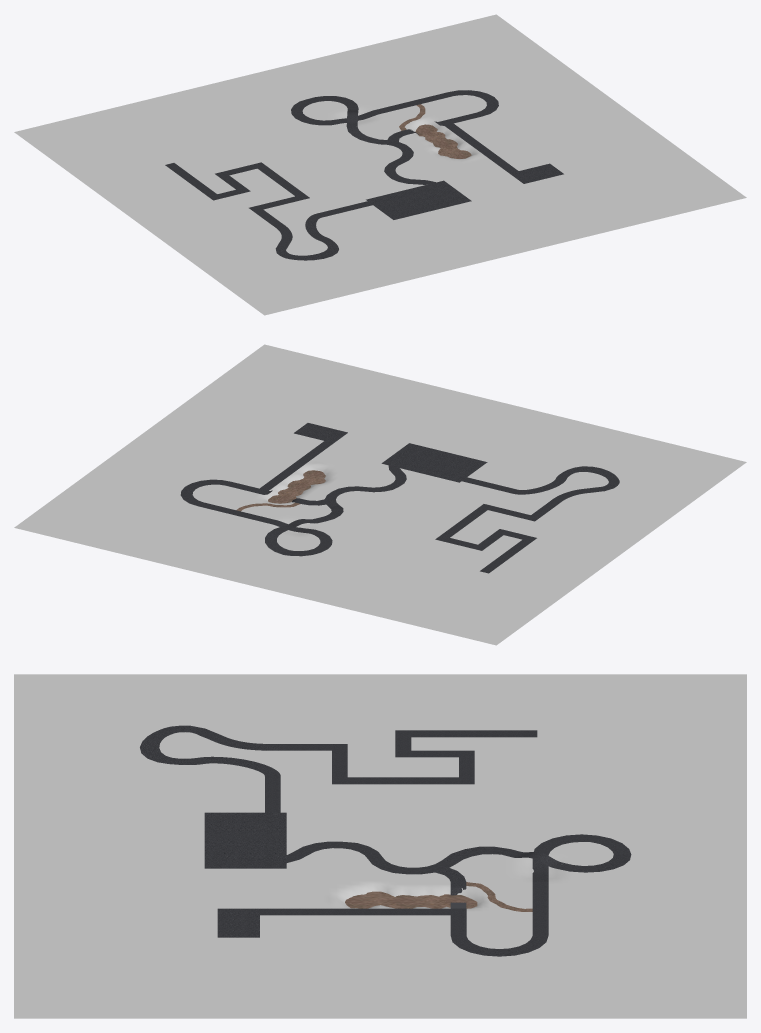
Rendered from Map 2.0.fbx.
3 renders of one model, top to bottom at view 1: azimuth 30°, elevation 25°; view 2: azimuth 150°, elevation 25°; view 3: azimuth 270°, elevation 25°, orthographic. The views are drawn at different scales.
Parts seen in each view (by area): view 1: pPlane56; view 2: pPlane56; view 3: pPlane56.
Boxes of the visible parts, <box> form: pPlane56: <box>14,14,746,315</box>; pPlane56: <box>14,344,746,645</box>; pPlane56: <box>14,674,746,1018</box>.
Bounding box in the file's own units: 30800 × 975 × 27700.
